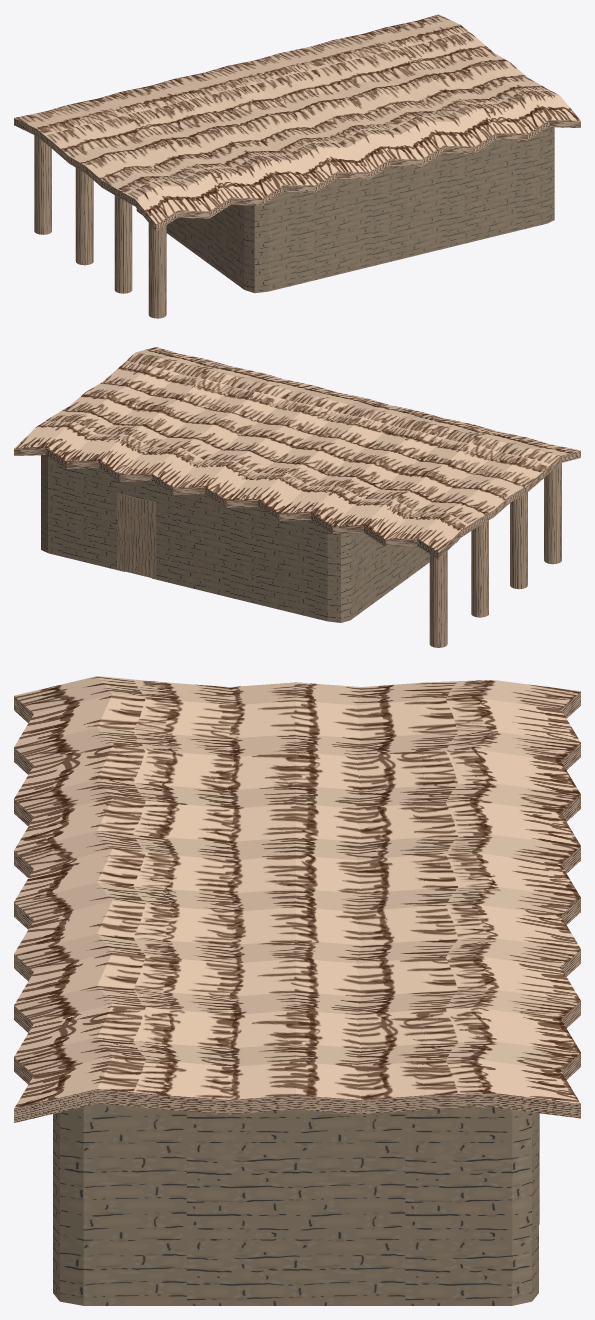
The model's file is Rancho_LVL01_V2.glb.
The picture shows the model from 3 angles, top to bottom: view 1: azimuth 30°, elevation 25°; view 2: azimuth 150°, elevation 25°; view 3: azimuth 270°, elevation 25°; orthographic projection. The views are drawn at different scales.
Parts seen in each view (by area): view 1: Cube.005, Cube, Cube.004, Cube.002, Cube.003, Cube.001; view 2: Cube.005, Cube, Cube.006, Cube.001, Cube.003, Cube.002, Cube.004; view 3: Cube.005, Cube.
Boxes of the visible parts, x1,y1,x2,y2 form: Cube.005: (14, 14, 580, 231); Cube: (136, 127, 554, 293); Cube.004: (114, 195, 132, 293); Cube.002: (75, 168, 93, 265); Cube.003: (148, 223, 166, 318); Cube.001: (34, 135, 51, 234); Cube.005: (14, 347, 580, 559); Cube: (41, 455, 457, 622); Cube.006: (117, 493, 156, 578); Cube.001: (429, 551, 447, 647); Cube.003: (544, 463, 561, 564); Cube.002: (471, 520, 488, 617); Cube.004: (510, 492, 527, 589); Cube.005: (14, 676, 580, 1122); Cube: (53, 1103, 538, 1305).
Size of the model in its own units: 10.42 by 2.76 by 6.05.
7 materials, 7 textured.
